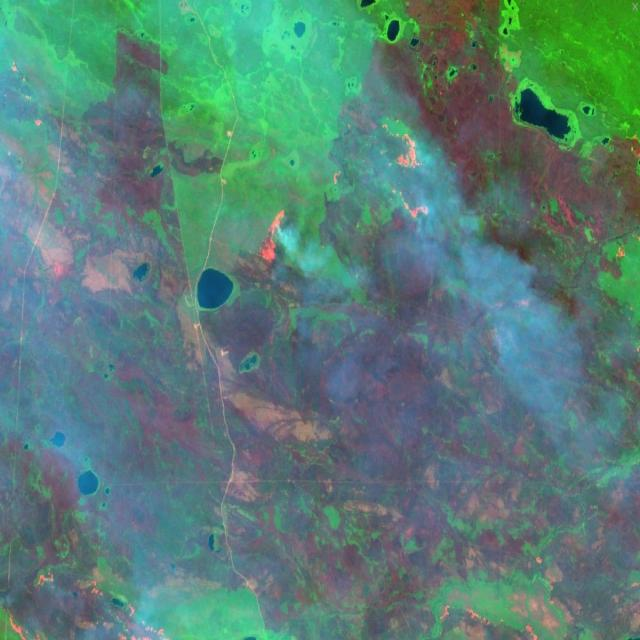fire: (0, 568, 180, 640), (377, 113, 439, 237), (244, 191, 298, 280)
